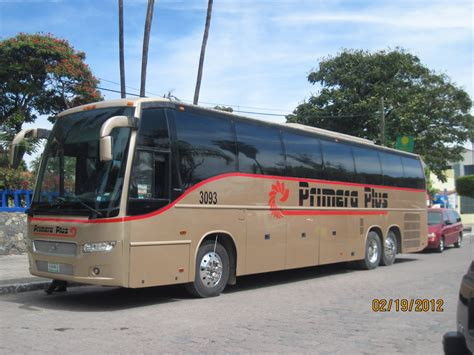bus: (25, 105, 427, 297)
